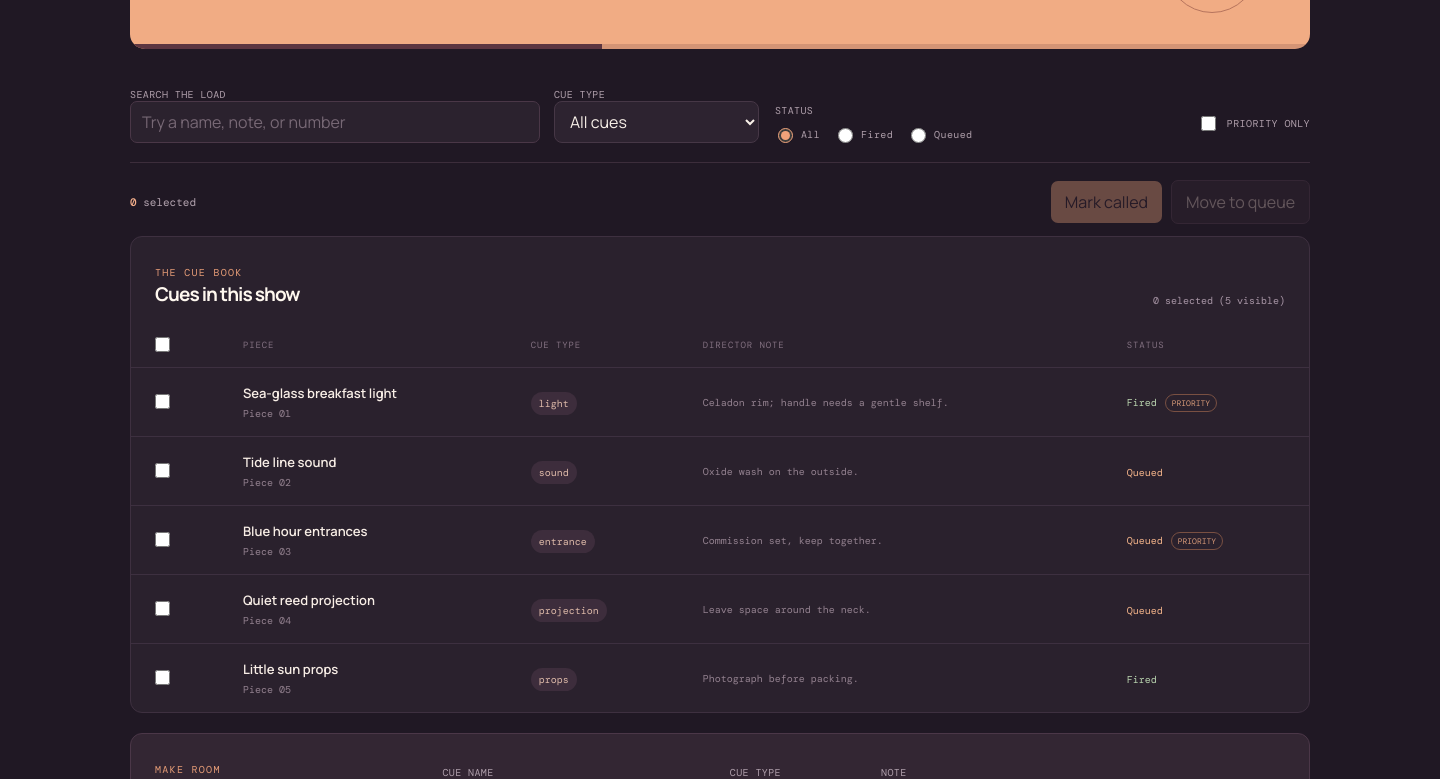
Scenario: QuietCue app › keeps selection when a status filter hides it
(page scrolled)
Click the checkbox named "Select Sea-glass breakfast light" at {"x": 162, "y": 402}, box [155,394,170,409]
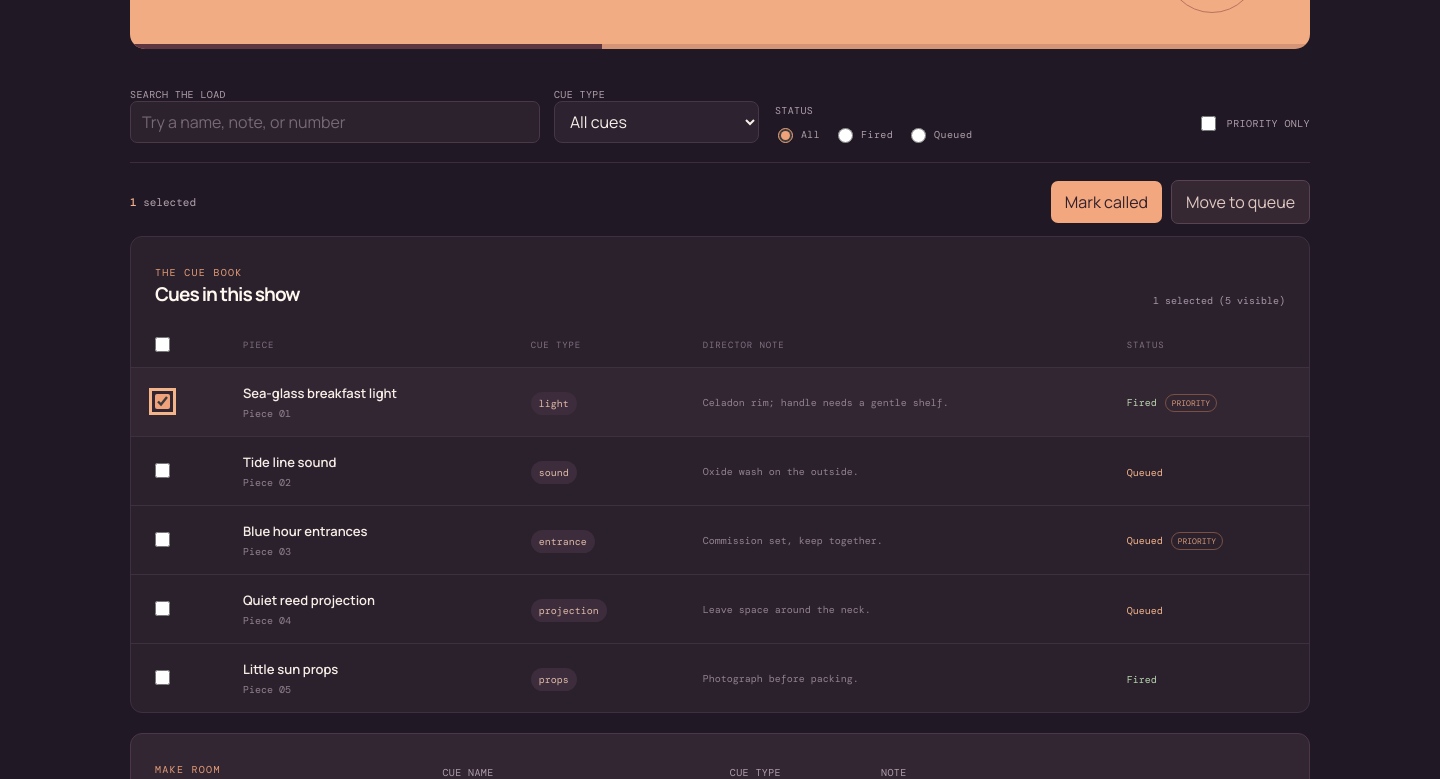
Click the radio button labelled "Queued" at {"x": 919, "y": 136}, box [911,128,926,143]
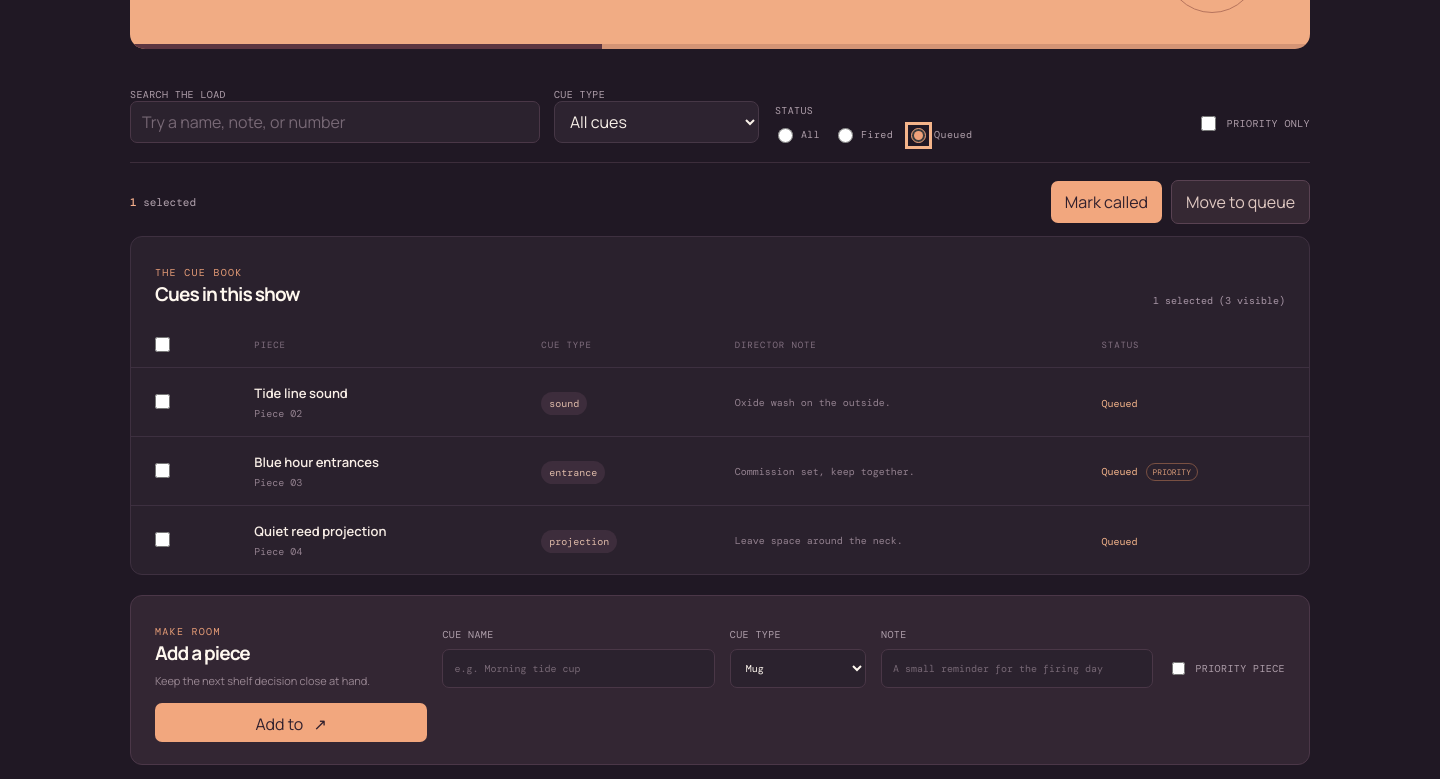
Expected: the text "1 selected (3 visible)" is shown, [1153,294,1285,307]
Click the radio button labelled "All" at {"x": 785, "y": 136}, box [778,128,793,143]
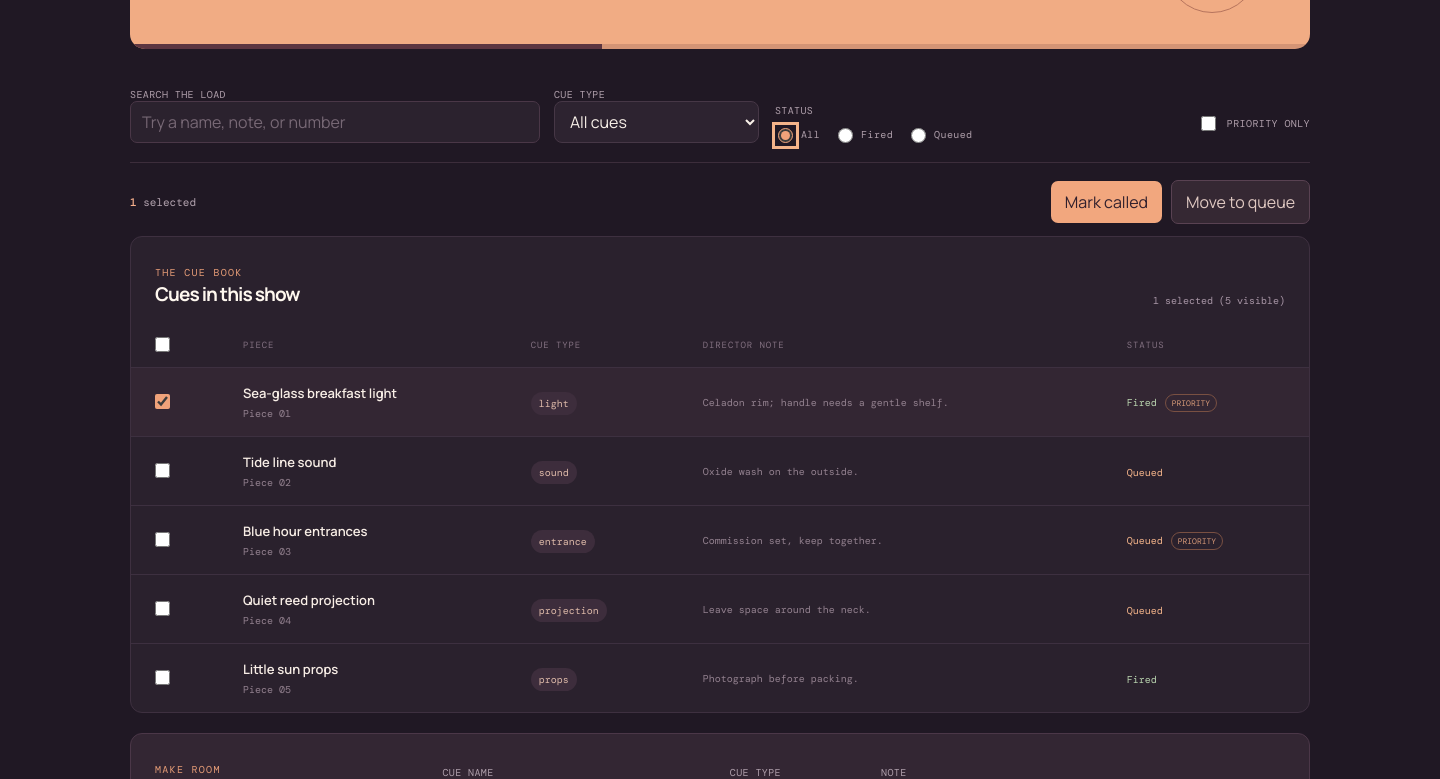
Expected: the checkbox named "Select Sea-glass breakfast light" is checked, [155,394,170,409]
